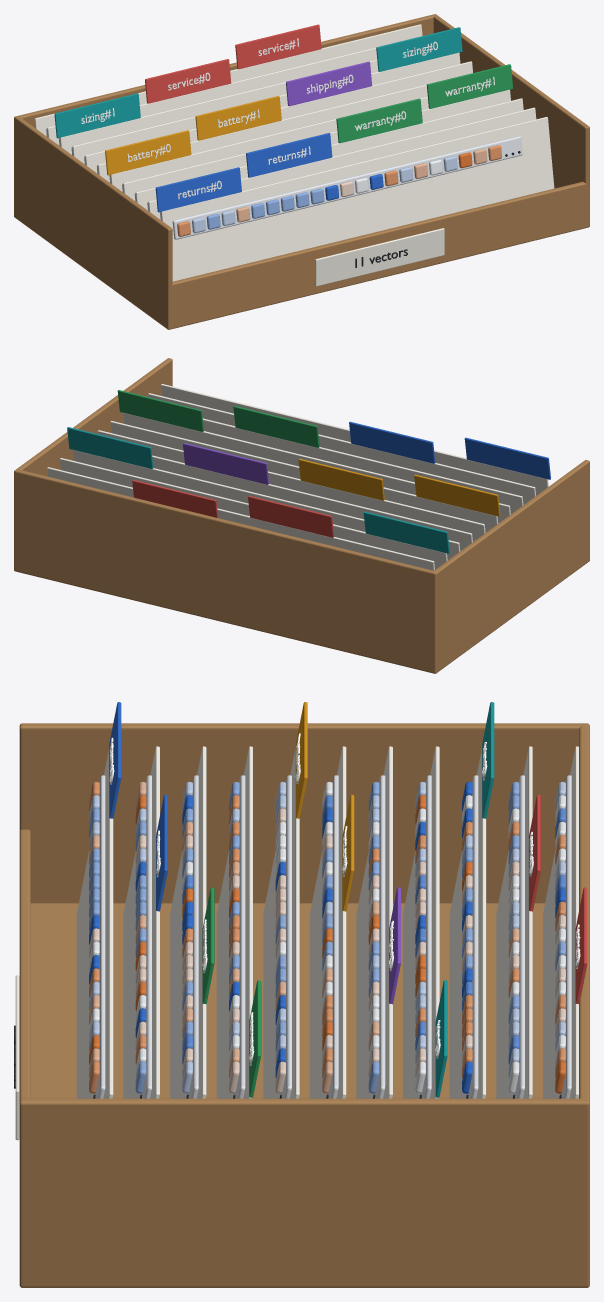
The model's file is vector_index.glb.
3 views of the same model, one above another, from view 1: azimuth 30°, elevation 25°; view 2: azimuth 150°, elevation 25°; view 3: azimuth 270°, elevation 25° (orthographic). The views are drawn at different scales.
Visible parts, largest first — view 1: floor, returns#0_file, returns#0_vec, returns#1_file, returns#0_vec_bar, label, service#0_file, battery#1_file, battery#0_file, sizing#1_file, sizing#0_file, service#1_file (+14 smaller); view 2: floor, returns#1_file, battery#1_file, warranty#0_file, shipping#0_file, battery#0_file, sizing#0_file, sizing#1_file, returns#0_file, warranty#1_file, service#0_file, battery#1_tab (+10 smaller); view 3: floor, battery#1_file, returns#0_file, sizing#1_file, warranty#0_file, sizing#0_file, warranty#1_file, service#1_file, battery#0_file, shipping#0_file, returns#1_file, service#0_file (+34 smaller).
Part boxes in pixels (x1,y1,x2,y2): floor: (14,14,589,329); returns#0_file: (161,117,554,281); returns#0_vec: (177,145,501,236); returns#1_file: (148,107,536,219); returns#0_vec_bar: (172,136,522,239); label: (315,228,444,286); service#0_file: (47,47,377,145); battery#1_file: (97,84,427,182); battery#0_file: (110,96,428,191); sizing#1_file: (60,59,378,154); sizing#0_file: (72,52,460,163); service#1_file: (34,24,422,136); floor: (14,358,589,673); returns#1_file: (148,393,536,504); battery#1_file: (97,430,485,541); warranty#0_file: (202,418,523,513); shipping#0_file: (152,455,472,550); battery#0_file: (110,421,498,532); sizing#0_file: (72,449,460,560); sizing#1_file: (60,458,447,569); returns#0_file: (161,384,548,495); warranty#1_file: (123,412,510,523); service#0_file: (47,467,434,570); battery#1_tab: (298,458,384,500); floor: (19,723,589,1287); battery#1_file: (309,746,346,1098); returns#0_file: (76,748,113,1098); sizing#1_file: (449,747,486,1098); warranty#0_file: (170,746,206,1098); sizing#0_file: (403,746,439,1098); warranty#1_file: (216,746,252,1098); service#1_file: (543,746,578,1098); battery#0_file: (263,747,299,1098); shipping#0_file: (356,746,392,1098); returns#1_file: (123,746,159,1098); service#0_file: (496,746,532,1098).
Bounding box in the file's own units: 0.656 × 0.1775 × 0.4201.
